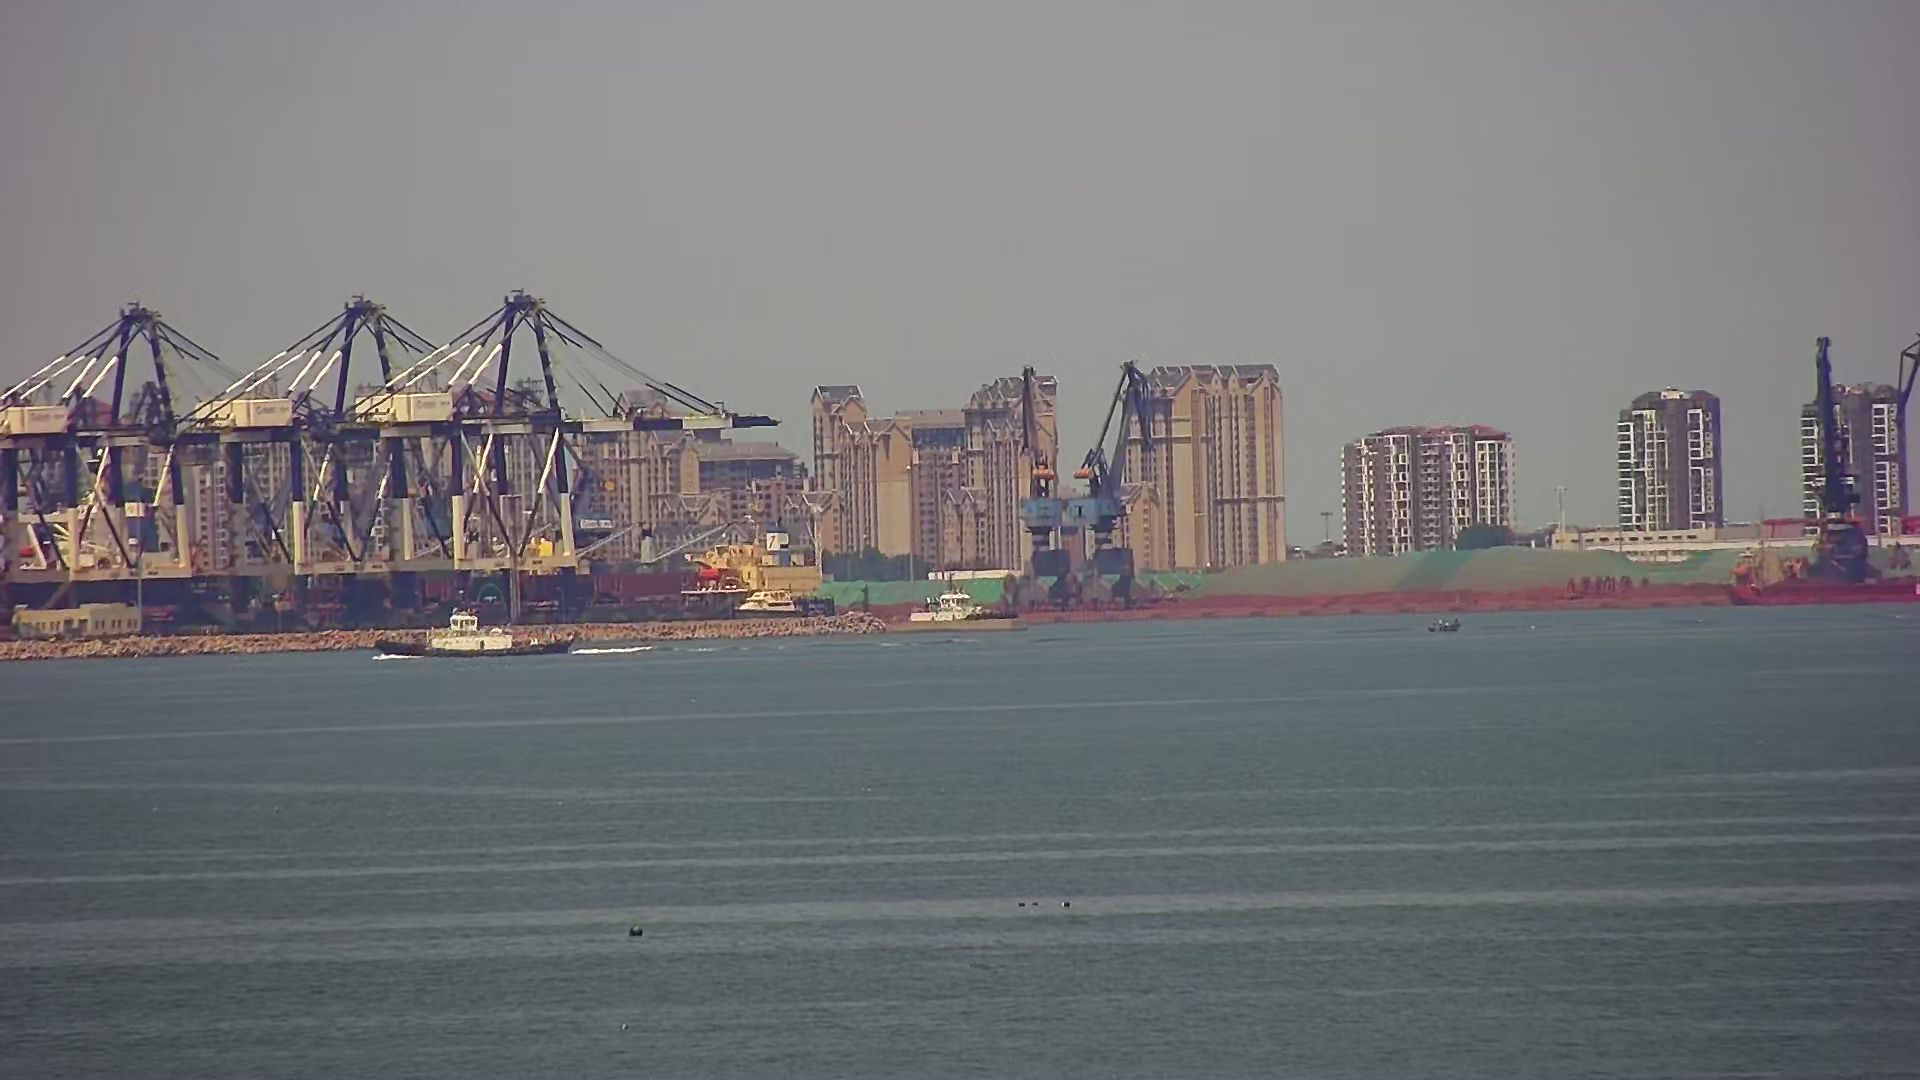ship: (371, 589, 580, 658)
